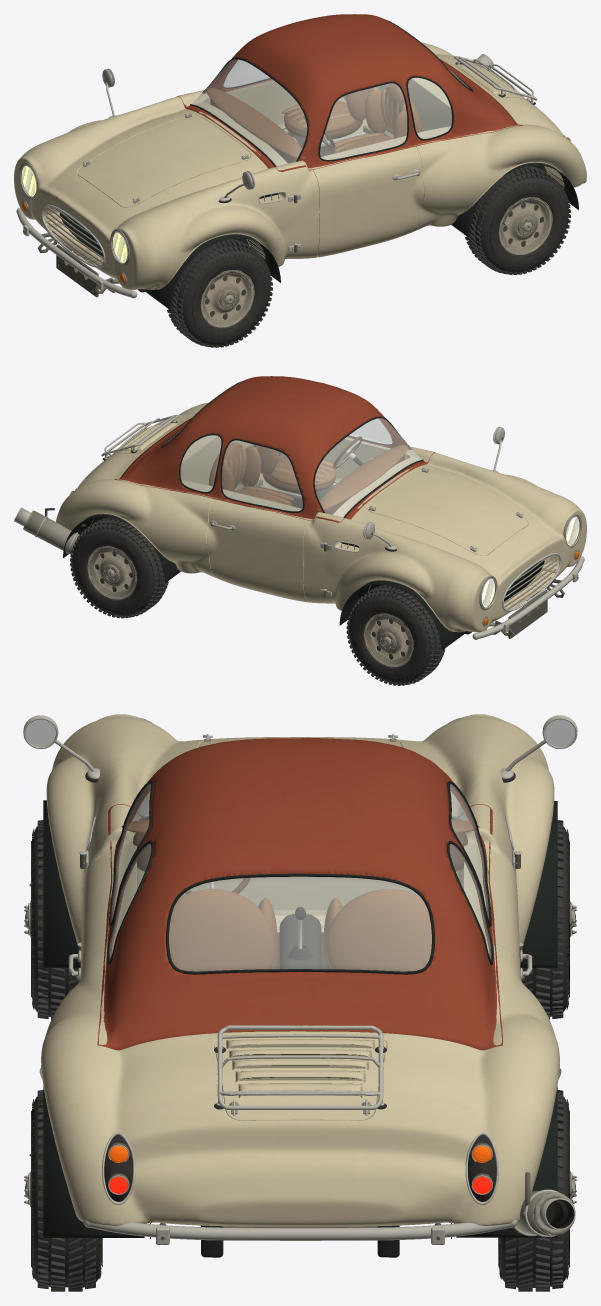
The model's file is sparrow.glb.
The picture shows the model from 3 angles, top to bottom: view 1: azimuth 30°, elevation 25°; view 2: azimuth 150°, elevation 25°; view 3: azimuth 270°, elevation 25°; orthographic projection. The views are drawn at different scales.
Visible parts, largest first — view 1: object 163, object 231, object 3, Wheel_FL_Detailed, Wheel_RL_Detailed, object 108, object 40, object 69, object 116, object 136, object 185; view 2: object 163, object 231, object 3, Wheel_FR_Detailed, Wheel_RR_Detailed, object 108, object 40, object 69, object 127, object 136, object 116, object 185; view 3: object 163, object 231, object 3, object 108, object 40, object 69, Wheel_RL_Detailed, Wheel_RR_Detailed, Wheel_FR_Detailed, Wheel_FL_Detailed, object 127, object 185.
Boxes of the visible parts, left/top/right/bottom form: object 163: left=14, top=42, right=586, bottom=290; object 231: left=177, top=14, right=522, bottom=171; object 3: left=45, top=59, right=469, bottom=265; Wheel_FL_Detailed: left=166, top=238, right=272, bottom=347; Wheel_RL_Detailed: left=465, top=166, right=570, bottom=274; object 108: left=206, top=62, right=535, bottom=203; object 40: left=59, top=20, right=578, bottom=309; object 69: left=16, top=54, right=586, bottom=298; object 116: left=22, top=98, right=531, bottom=267; object 136: left=38, top=80, right=246, bottom=297; object 185: left=22, top=138, right=570, bottom=262; object 163: left=56, top=402, right=586, bottom=632; object 231: left=114, top=376, right=435, bottom=522; object 3: left=163, top=418, right=557, bottom=609; Wheel_FR_Detailed: left=346, top=584, right=445, bottom=685; Wheel_RR_Detailed: left=70, top=517, right=168, bottom=618; object 108: left=102, top=421, right=408, bottom=551; object 40: left=63, top=381, right=544, bottom=650; object 69: left=14, top=415, right=584, bottom=639; object 127: left=23, top=510, right=579, bottom=625; object 136: left=45, top=437, right=564, bottom=638; object 116: left=107, top=454, right=579, bottom=611; object 185: left=70, top=491, right=579, bottom=607; object 163: left=39, top=714, right=561, bottom=1226; object 231: left=97, top=738, right=503, bottom=1050; object 3: left=109, top=784, right=491, bottom=971; object 108: left=76, top=772, right=524, bottom=1201; object 40: left=43, top=781, right=557, bottom=1238; object 69: left=23, top=715, right=577, bottom=1240; Wheel_RL_Detailed: left=24, top=1090, right=102, bottom=1291; Wheel_RR_Detailed: left=498, top=1090, right=576, bottom=1291; Wheel_FR_Detailed: left=521, top=820, right=576, bottom=1019; Wheel_FL_Detailed: left=24, top=820, right=79, bottom=1019; object 127: left=515, top=1190, right=575, bottom=1235; object 185: left=109, top=1146, right=491, bottom=1193.
Bounding box in the file's own units: 4.13 × 1.72 × 2.13.
29 materials, 3 textured.
